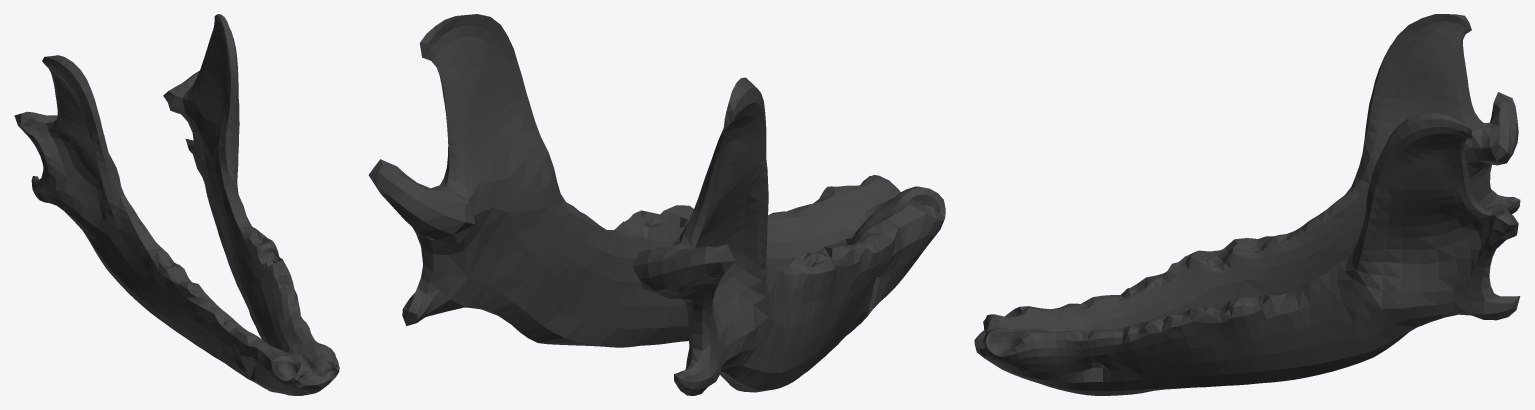
File: Mandible.glb
3 views of the same model, side by side, from view 1: azimuth 30°, elevation 25°; view 2: azimuth 150°, elevation 25°; view 3: azimuth 270°, elevation 25° (orthographic). The views are drawn at different scales.
Visible parts, largest first — view 1: Mandible; view 2: Mandible; view 3: Mandible.
Boxes of the visible parts, box(x1,y1,x2,y2) form: Mandible: box(14, 14, 339, 395); Mandible: box(368, 14, 945, 395); Mandible: box(974, 14, 1520, 395).
Size of the model in its own units: 4.72 by 5.6 by 8.54.
Materials: 1 (1 with a texture image).
